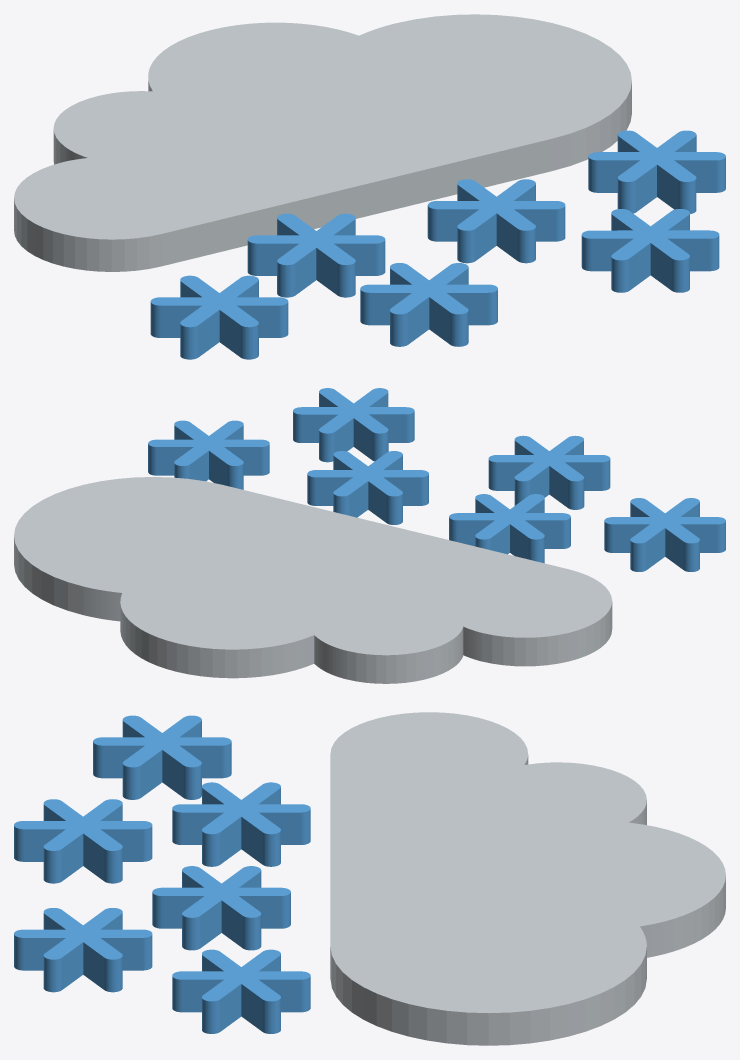
File: snowy.gltf
The picture shows the model from 3 angles, top to bottom: view 1: azimuth 30°, elevation 25°; view 2: azimuth 150°, elevation 25°; view 3: azimuth 270°, elevation 25°; orthographic projection. The views are drawn at different scales.
Parts seen in each view (by area): view 1: Curve, Curve.001; view 2: Curve, Curve.001; view 3: Curve, Curve.001.
Part boxes in pixels (x1,y1,x2,y2): Curve: [14, 14, 631, 271]; Curve.001: [150, 130, 725, 359]; Curve: [14, 477, 612, 683]; Curve.001: [148, 388, 725, 571]; Curve: [330, 712, 725, 1045]; Curve.001: [14, 715, 310, 1033].
Bounding box in the file's own units: 1.98 × 0.1 × 1.98.
